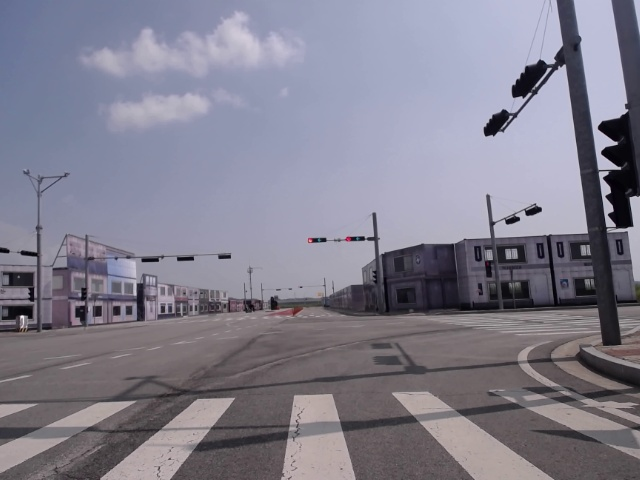left_green_4: (308, 238, 326, 243), (347, 237, 364, 241)
